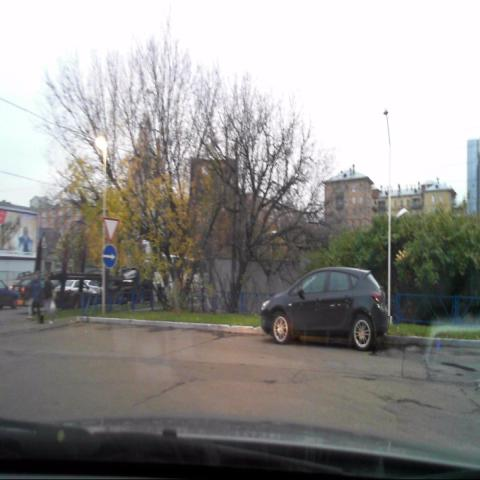4_1_2_1: (102, 245, 116, 268)
